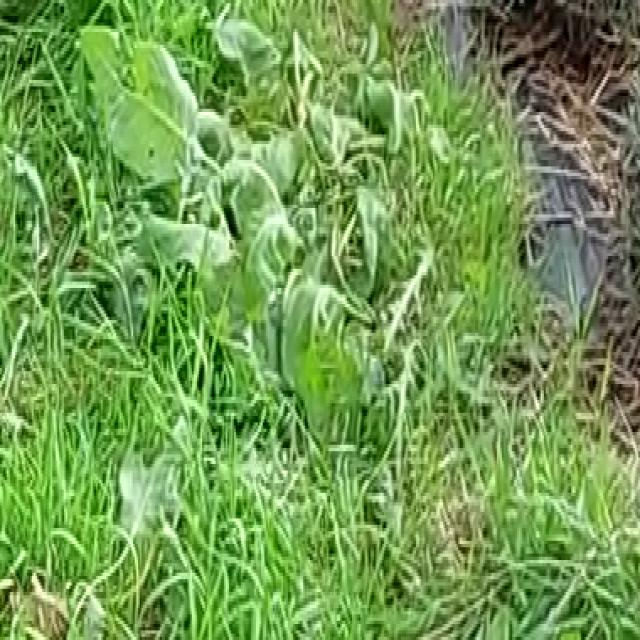organic waste: (212, 77, 453, 496), (100, 26, 314, 294)
